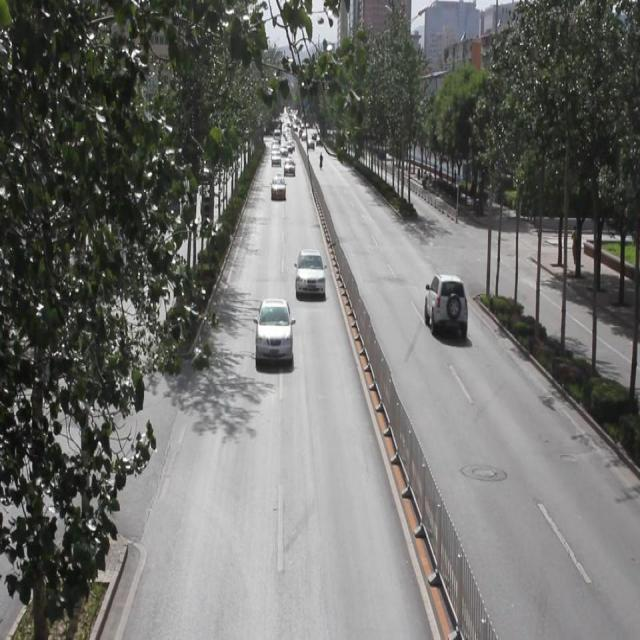car: (425, 273, 467, 342), (256, 300, 294, 364), (294, 250, 323, 301), (271, 176, 285, 201)
